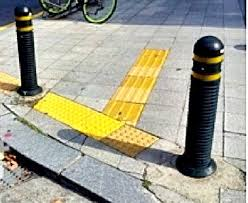guide_blocks: (42, 94, 155, 153), (111, 48, 169, 126)
